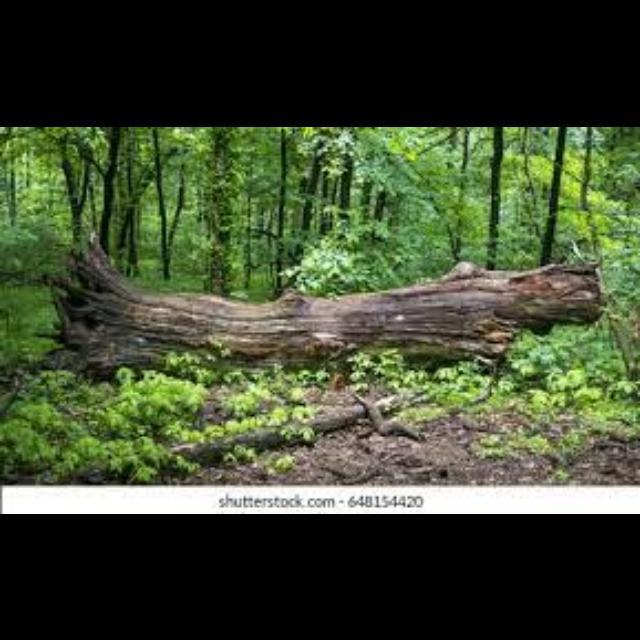fallen_tree: (53, 234, 611, 382)
